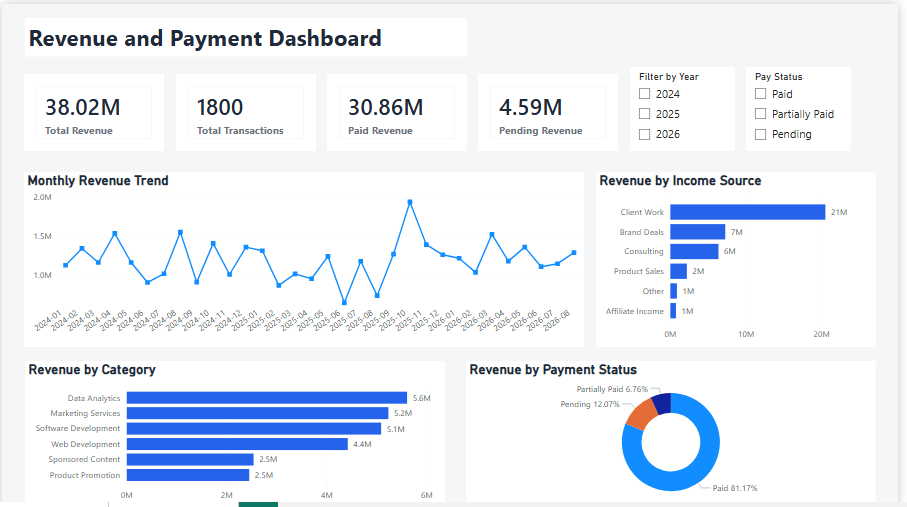

This screenshot's page, from the dashboard's own definition file:
{"tool":"powerbi","page":{"name":"Revenue Overview","canvas":[1280,720],"ordinal":0},"visuals":[{"type":"cardVisual","fields":{"Data":["DateTable.Total Revenue"]},"box":[32,100,200,110],"z":0},{"type":"cardVisual","fields":{"Data":["DateTable.Total Transactions"]},"box":[248,100,200,110],"z":1},{"type":"cardVisual","fields":{"Data":["DateTable.Pending Revenue"]},"box":[680,100,200,110],"z":2},{"type":"cardVisual","fields":{"Data":["DateTable.Paid Revenue"]},"box":[464,100,200,110],"z":3},{"type":"textbox","box":[32.6,19.8,630.7,55.3],"z":4},{"type":"lineChart","title":"Monthly Revenue Trend","fields":{"Category":["DateTable.Year Month"],"Y":["DateTable.Total Revenue"]},"box":[32,240,800,250],"z":5},{"type":"clusteredBarChart","title":"Revenue by Income Source","fields":{"Category":["clean_transactions.Income_Source"],"Y":["DateTable.Total Revenue"]},"box":[848,240,400,250],"z":6},{"type":"clusteredBarChart","title":"Revenue by  Category","fields":{"Y":["DateTable.Total Revenue"],"Category":["clean_transactions.Category"]},"box":[32.6,510.2,599.5,209.8],"z":7},{"type":"donutChart","title":"Revenue by Payment Status","fields":{"Category":["clean_transactions.Payment_Status"],"Y":["DateTable.Total Revenue"]},"box":[663.3,510.2,585.4,209.8],"z":8},{"type":"slicer","fields":{"Values":["DateTable.Year"]},"box":[897.2,90.7,150.2,120.5],"z":9},{"type":"slicer","fields":{"Values":["clean_transactions.Payment_Status"]},"box":[1063,90.7,150.2,120.5],"z":10}]}

Visuals, with their boxes in screenshot pixels (x1, y1, x2, y2), scaled from the page's 1280x720 canvas onto the 907x507 screenshot:
cardVisual - DateTable.Total Revenue: [x1=23, y1=70, x2=164, y2=148]
cardVisual - DateTable.Total Transactions: [x1=176, y1=70, x2=317, y2=148]
cardVisual - DateTable.Pending Revenue: [x1=482, y1=70, x2=624, y2=148]
cardVisual - DateTable.Paid Revenue: [x1=329, y1=70, x2=471, y2=148]
textbox: [x1=23, y1=14, x2=470, y2=53]
"Monthly Revenue Trend" lineChart: [x1=23, y1=169, x2=590, y2=345]
"Revenue by Income Source" clusteredBarChart: [x1=601, y1=169, x2=884, y2=345]
"Revenue by  Category" clusteredBarChart: [x1=23, y1=359, x2=448, y2=506]
"Revenue by Payment Status" donutChart: [x1=470, y1=359, x2=885, y2=506]
slicer - DateTable.Year: [x1=636, y1=64, x2=742, y2=149]
slicer - clean_transactions.Payment_Status: [x1=753, y1=64, x2=860, y2=149]
